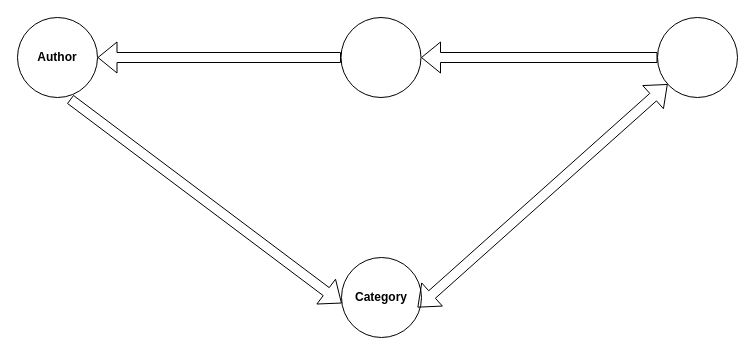
The diagram is 755 pixels wide and 355 high, and some of its shapes have lost their labels. The shapes that lost their labels are listed below. From the top down, each one's centre as x and y in pixels, then its label:
the point at 380,57: Folder
the point at 697,57: Note
